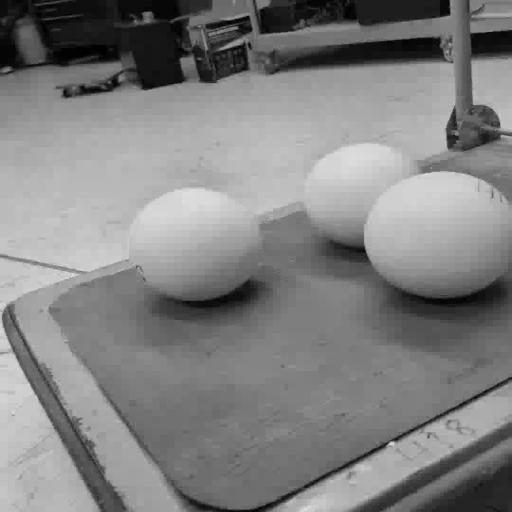fuel: (365, 172, 511, 299), (128, 188, 263, 301), (303, 144, 420, 247)
